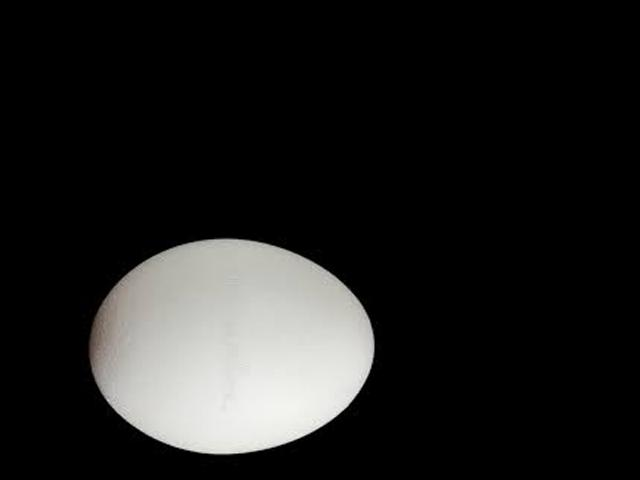egg: (87, 239, 372, 455)
